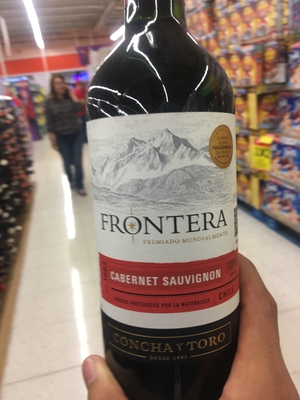frontera cabernet sauvignon: (71, 20, 261, 391)
